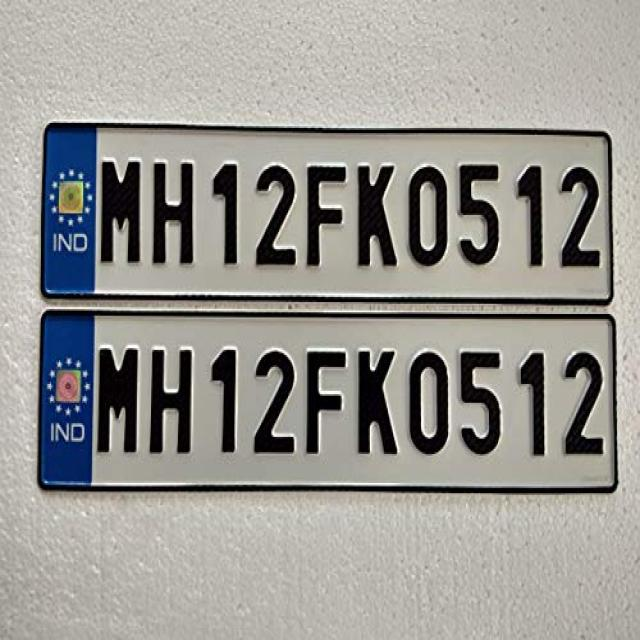plate: (39, 312, 617, 492), (45, 121, 614, 302)
